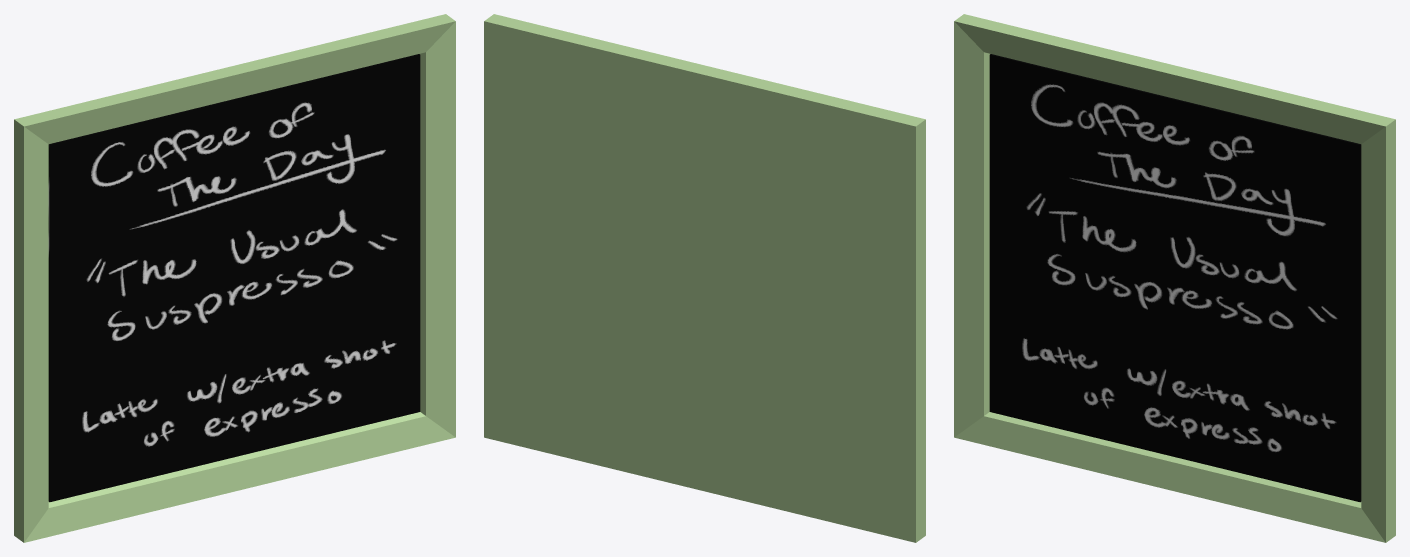
File: ChalkBoard.fbx
3 views of the same model, side by side, from view 1: azimuth 30°, elevation 25°; view 2: azimuth 150°, elevation 25°; view 3: azimuth 330°, elevation 25° (orthographic).
Parts seen in each view (by area): view 1: Cube.001, Cube; view 2: Cube; view 3: Cube.001, Cube.
Boxes of the visible parts, left/top/right/bottom form: Cube.001: left=48, top=54, right=420, bottom=502; Cube: left=14, top=14, right=455, bottom=542; Cube: left=484, top=14, right=925, bottom=542; Cube.001: left=989, top=54, right=1361, bottom=502; Cube: left=954, top=14, right=1395, bottom=542.
Size of the model in its own units: 1146 by 1056 by 45.43.
2 materials, 1 textured.
